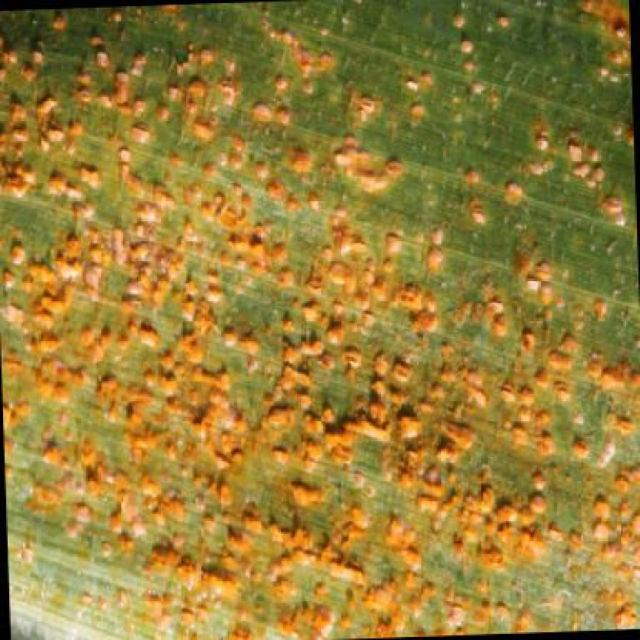Corn_Rust: (22, 18, 629, 620)
